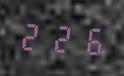six: (75, 20, 102, 58)
two: (47, 18, 74, 56), (18, 17, 45, 54)
